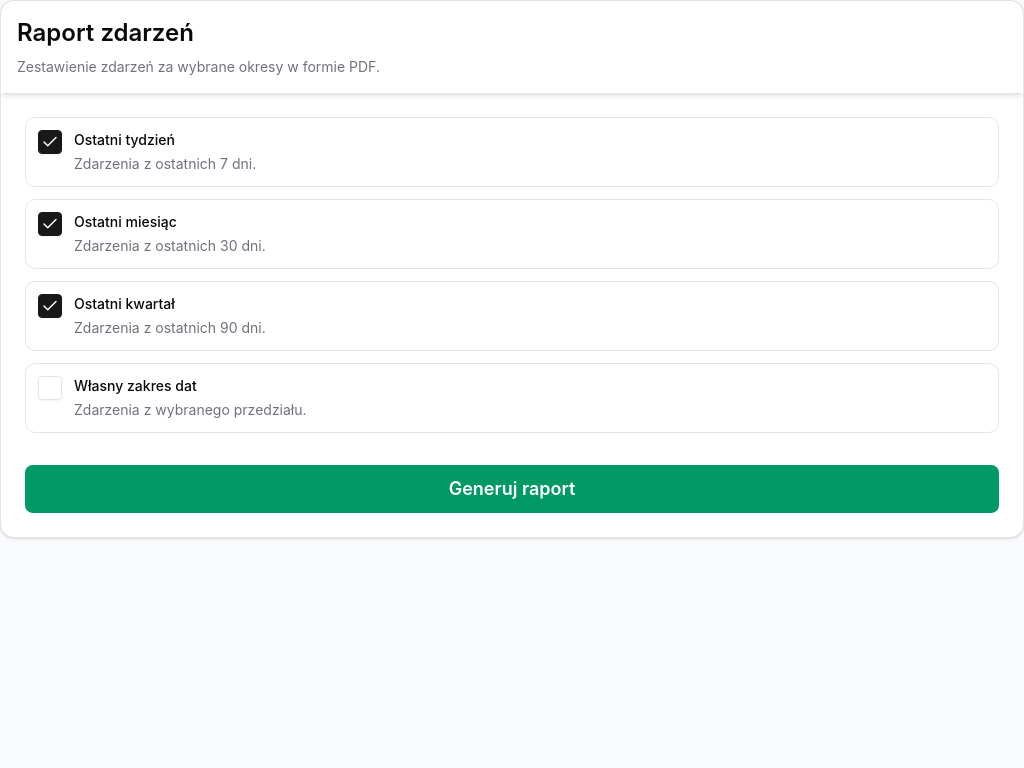
EventReportCard › requires dates for custom period
Click the checkbox named "Własny zakres dat". click: (50,388)
box: x1=38 y1=376 x2=62 y2=400
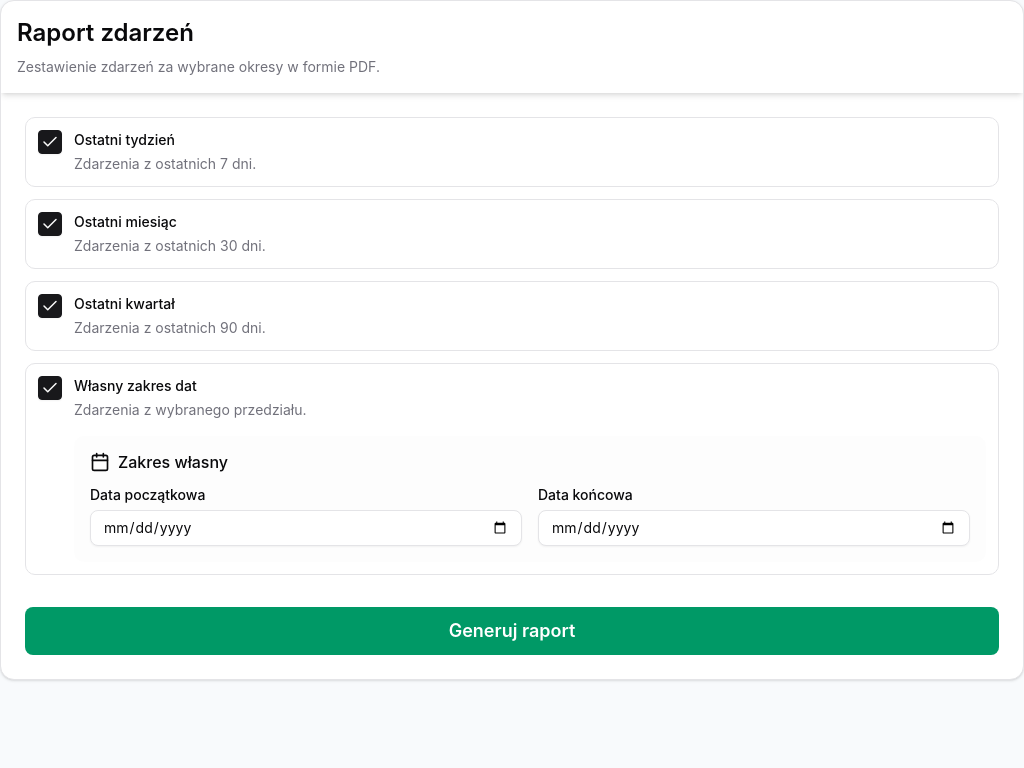
Click the button "Generuj raport". click: (512,631)
box: x1=25 y1=607 x2=999 y2=655
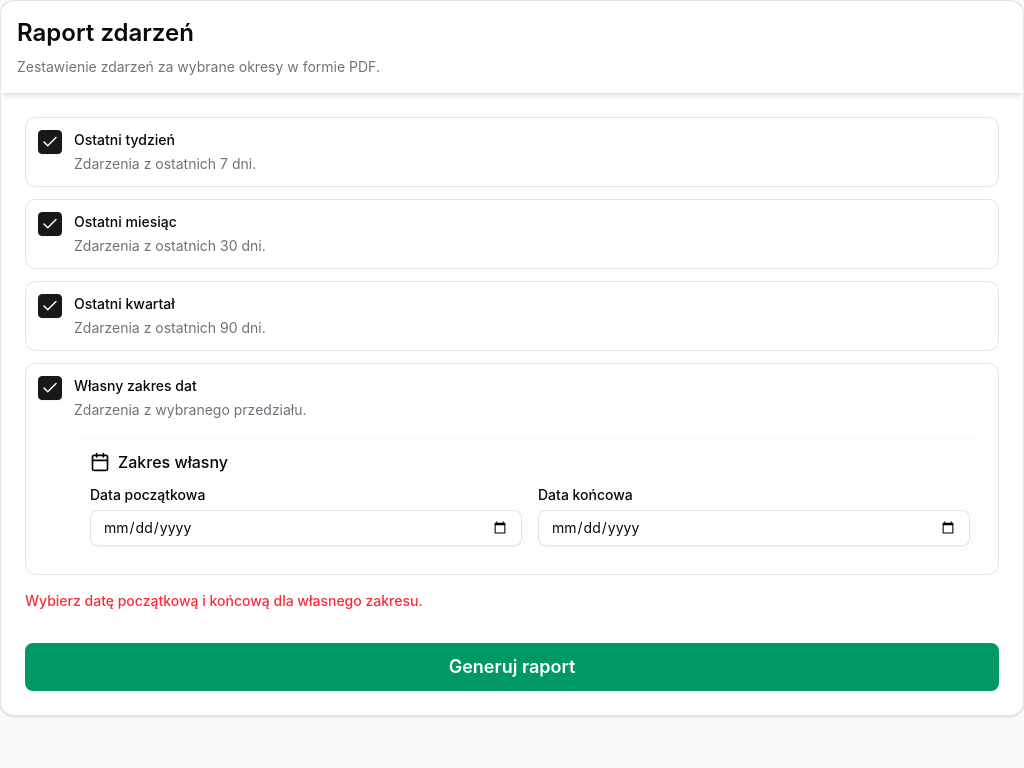
Check: the text "Wybierz datę początkową i końcową dla własnego zakresu." is shown, box x1=25 y1=592 x2=423 y2=609
